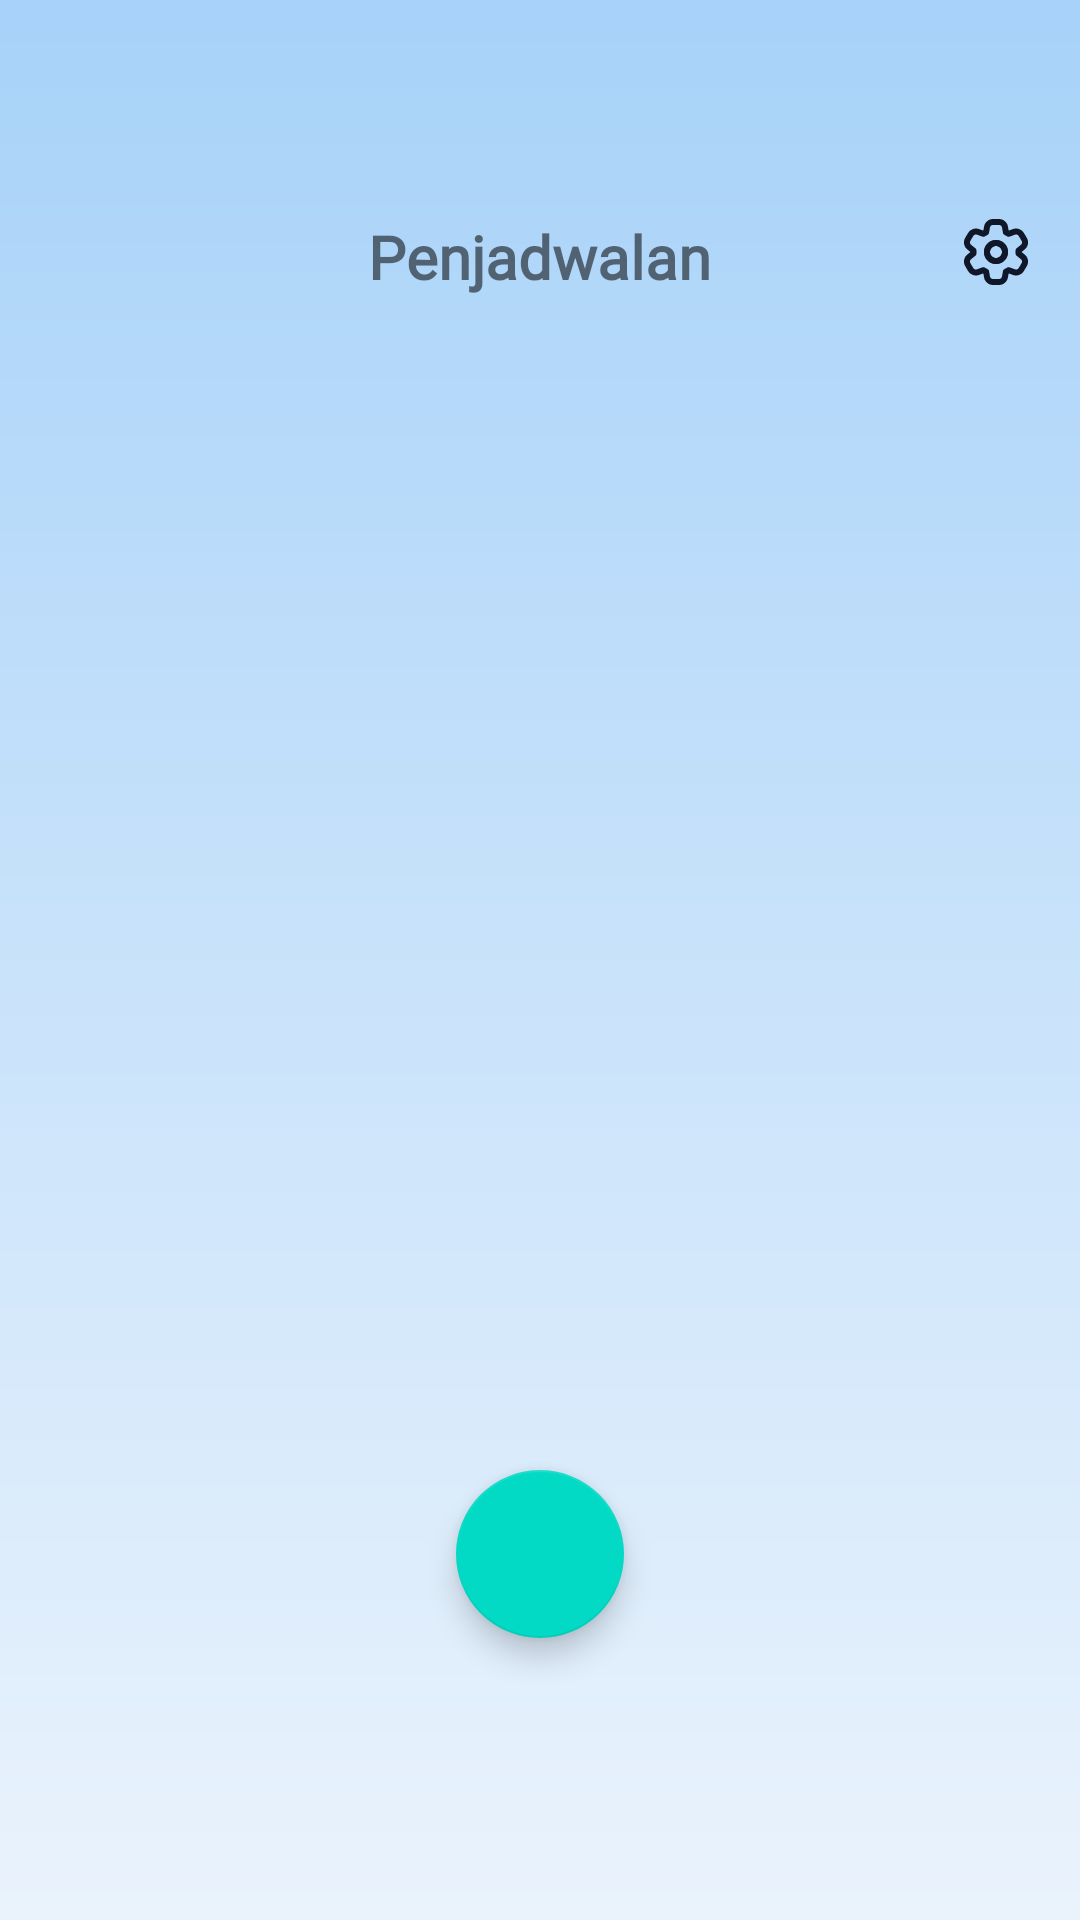

Icons on this 1080px×1920px Android screen, each with the point to tap as (x,y):
Pengaturan: (996,252)
